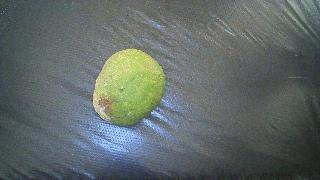DESECHO: (93, 49, 166, 126)
